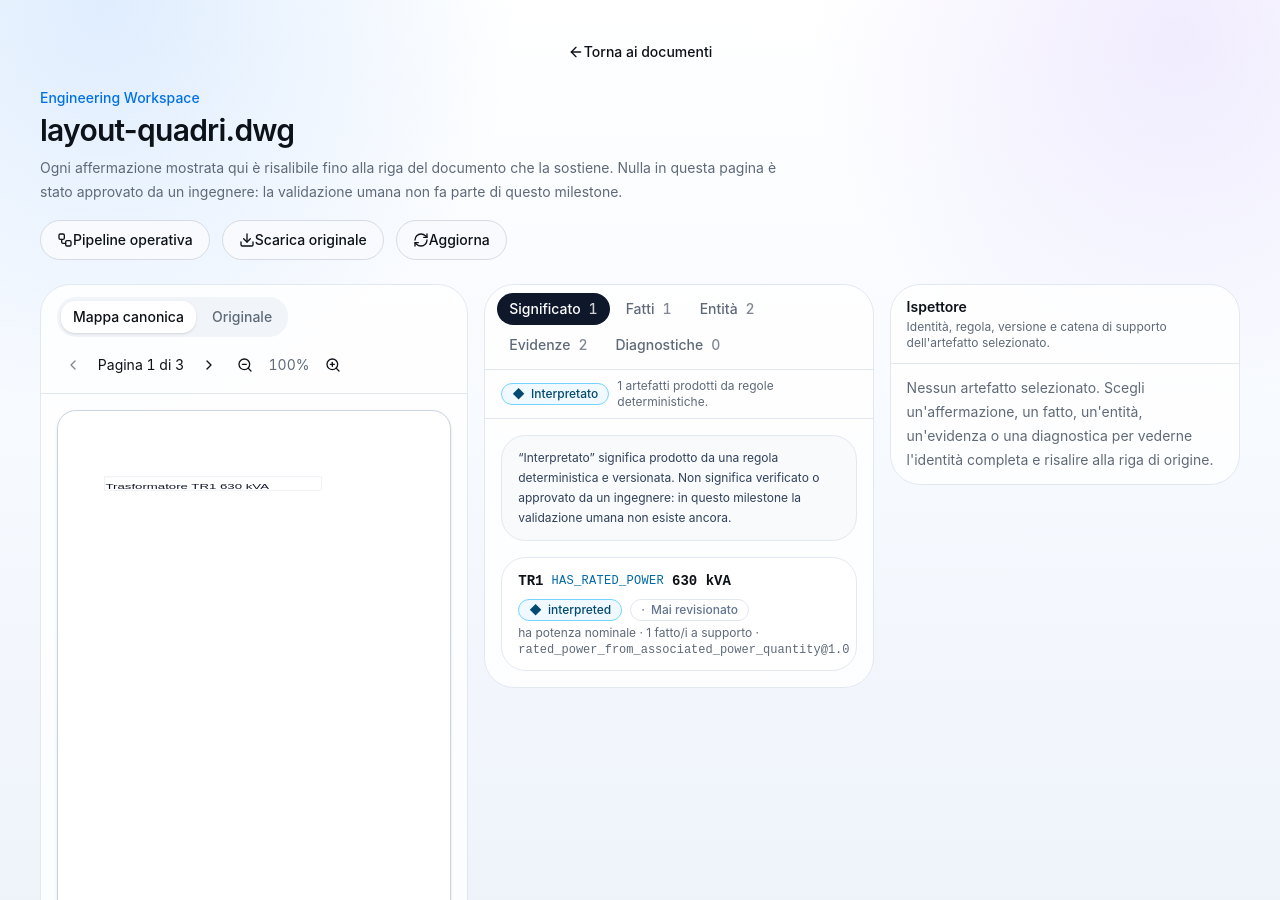
the source viewer › refuses to interpret a format that has no canonical form
Expected: the heading "layout-quadri.dwg" is shown, left=40, top=112, right=294, bottom=148
Click the tab "Originale" at (242, 317), box left=200, top=301, right=284, bottom=333
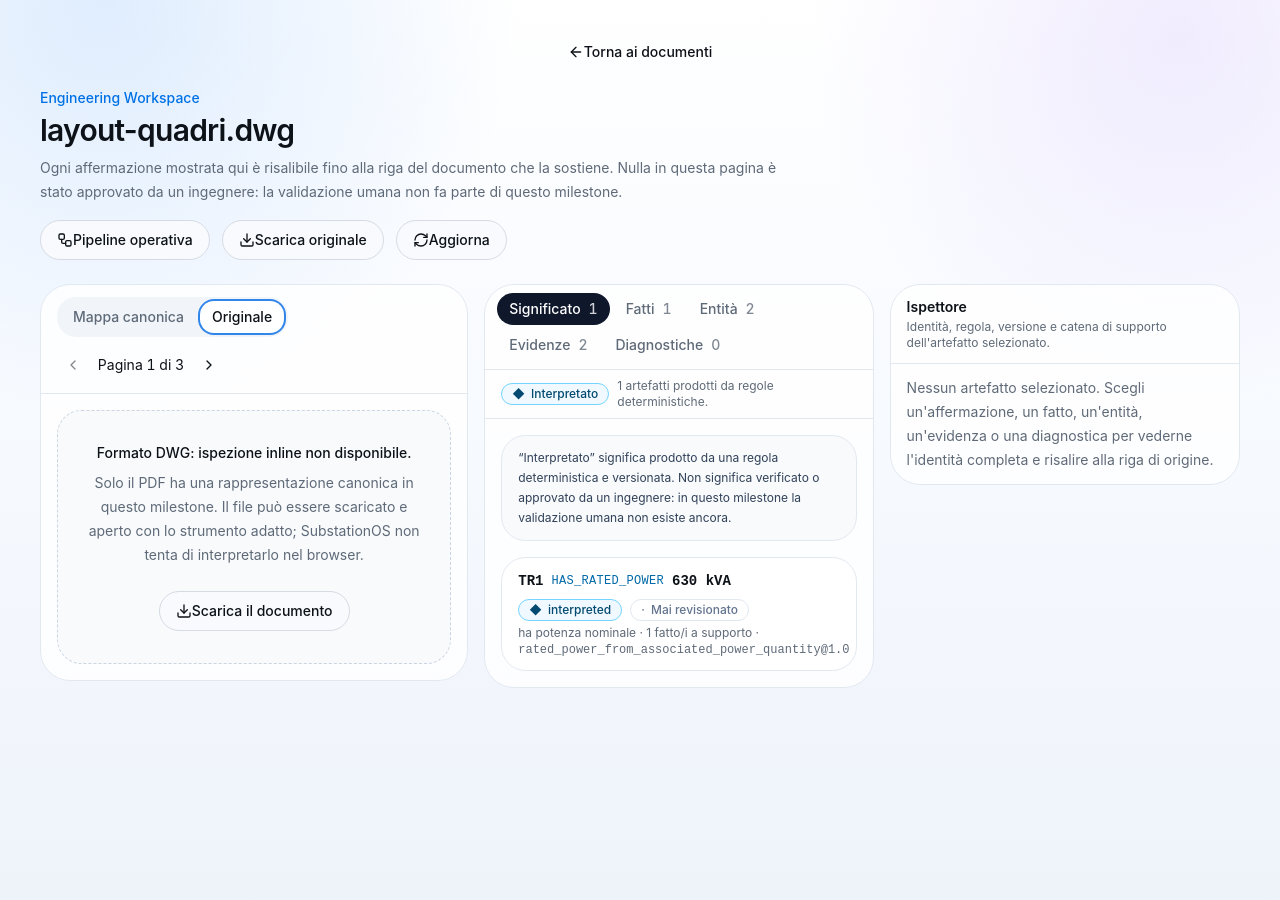
Now the text "Formato DWG: ispezione inline non disponibile." is shown, box left=78, top=443, right=430, bottom=463
